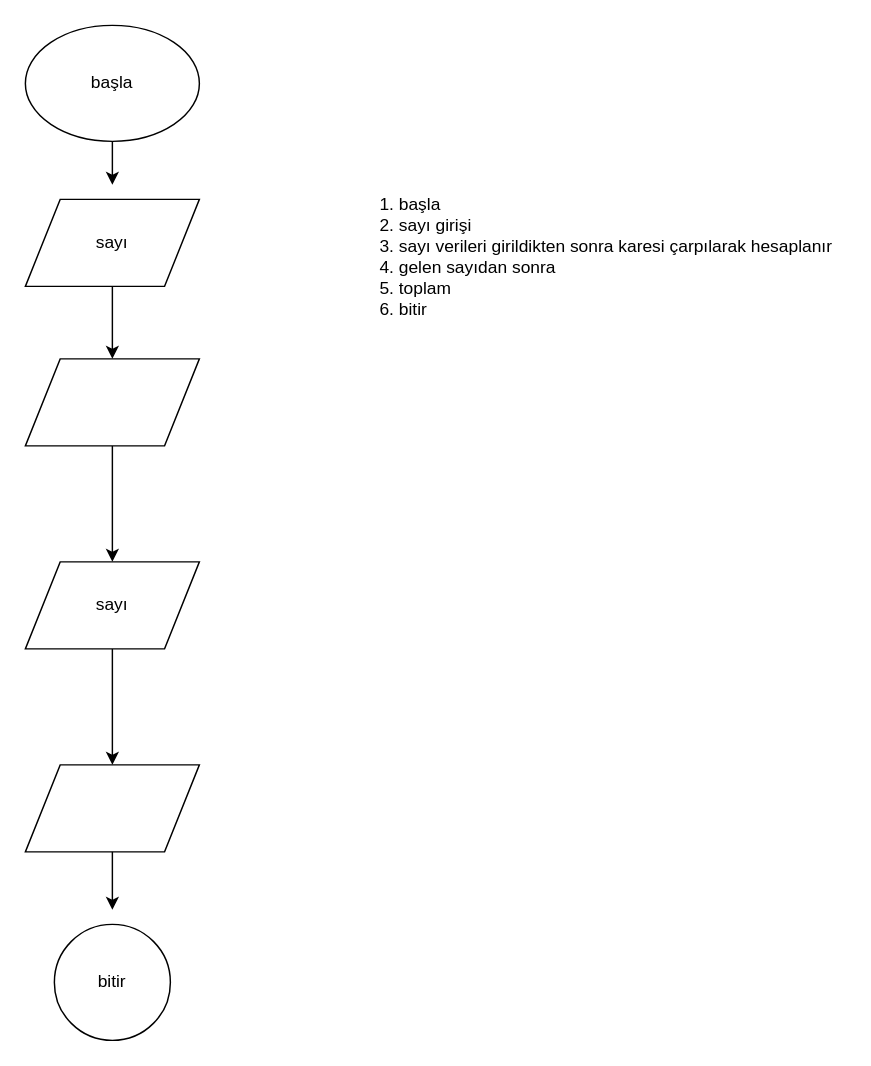
The diagram is 871 pixels wide and 1066 high, and some of its shapes have lost their labels. Here are the shapes that lost their labels. From the top down, the centre of each, then its label:
At point (111, 401): "karesi=0 karesi=sayı*sayı".
At point (111, 807): "toplam".
